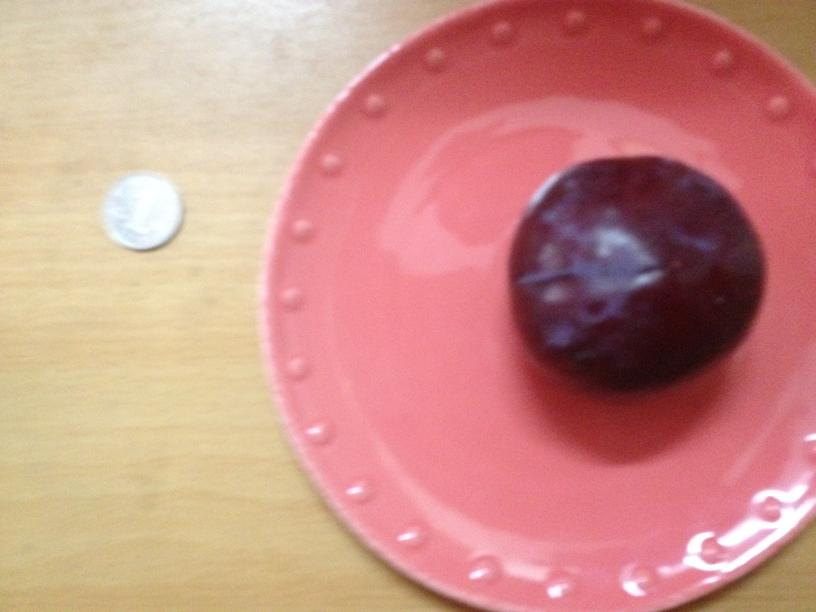coin: (98, 172, 184, 247)
plum: (504, 157, 762, 384)
